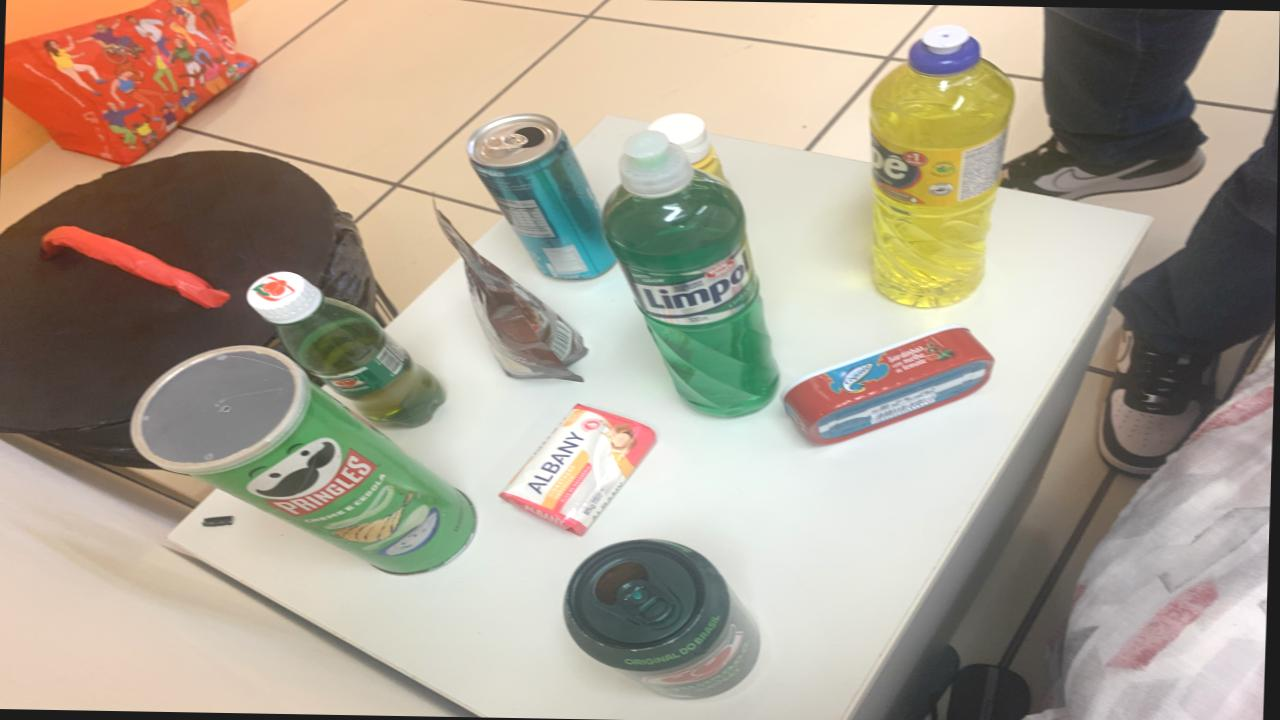Coffee-Pantry_Items: (435, 208, 589, 382)
Detergent-Cleanup_Items: (602, 129, 781, 416), (870, 26, 1014, 307)
Guarana-Drinks: (247, 271, 445, 426)
Guarana_Can-Drinks: (566, 540, 763, 699)
Mustard-Pantry_Items: (642, 113, 726, 180)
Pringles-Snacks: (131, 345, 479, 574)
Soap-Cleanup_Items: (502, 404, 658, 535)
Tea-Drinks: (467, 114, 616, 279)
Tuna_Can-Pantry_Items: (785, 326, 996, 444)
